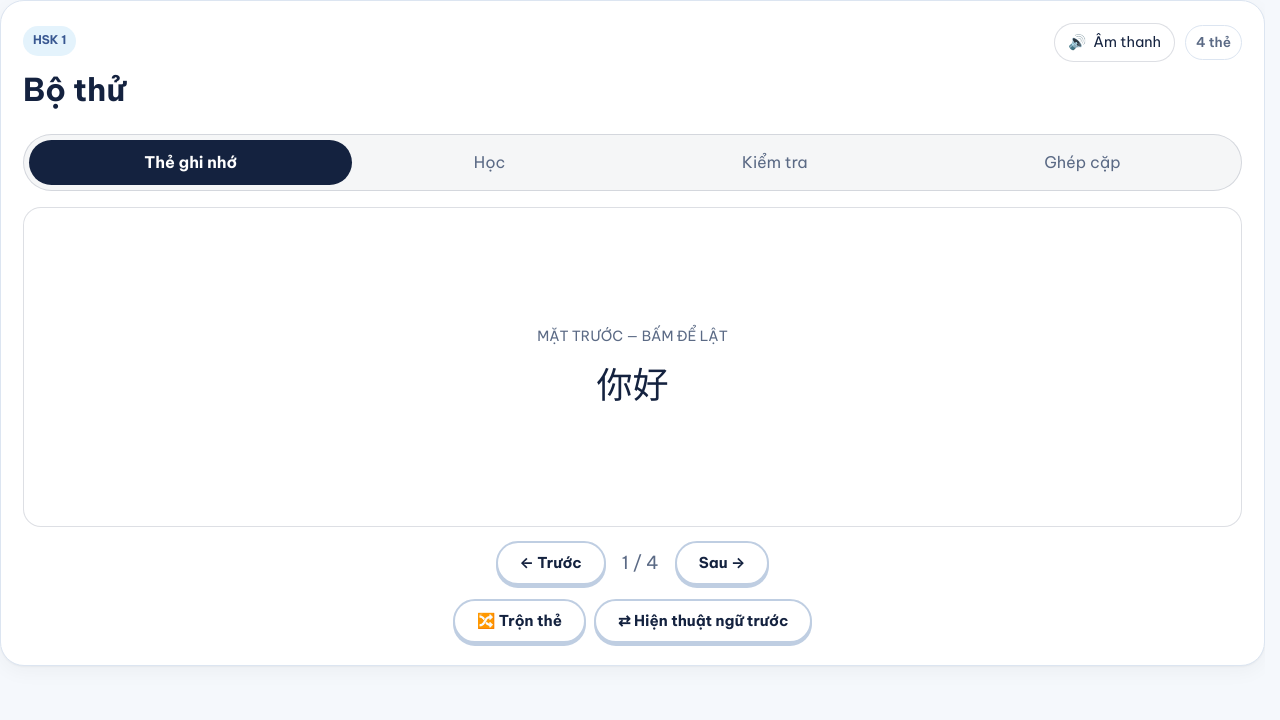
Test: nút tắt tiếng › mặc định đang bật và đổi được trạng thái
Click the button with class "fc-sound-toggle": (1115, 42) x1=1054 y1=23 x2=1175 y2=62
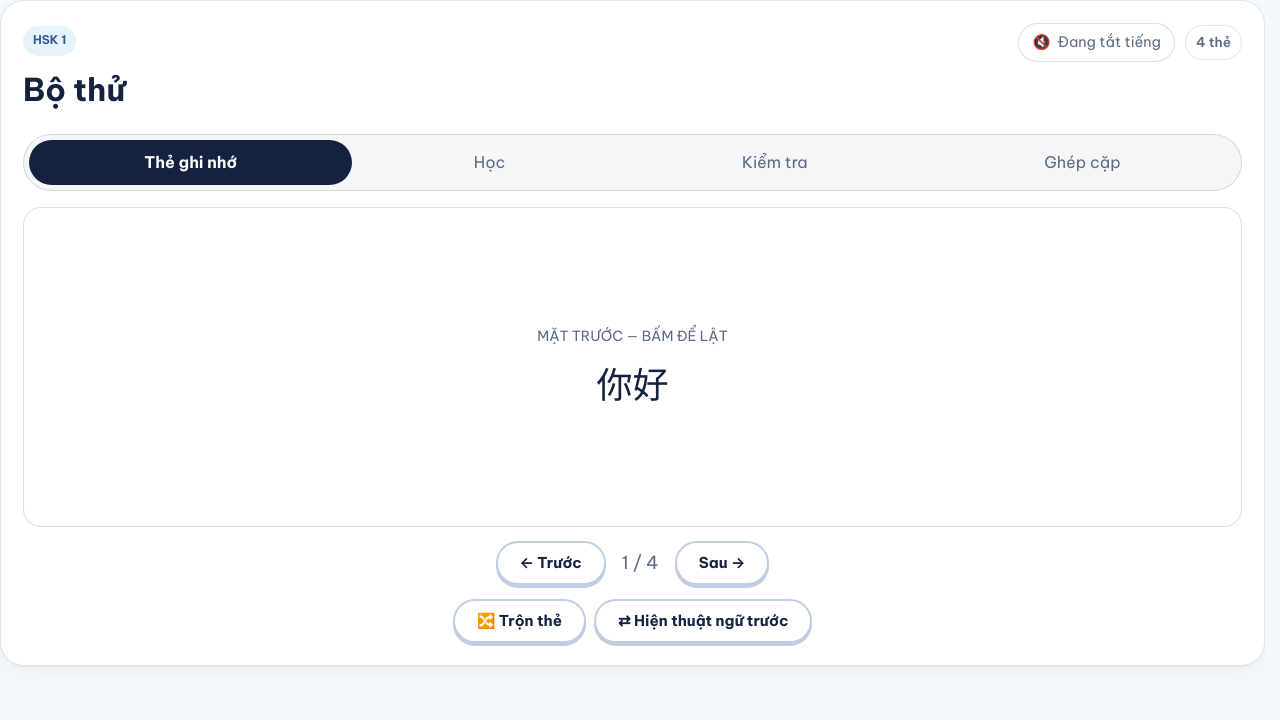
Expected: the text "Đang tắt tiếng" is shown, x1=1058 y1=30 x2=1161 y2=55
